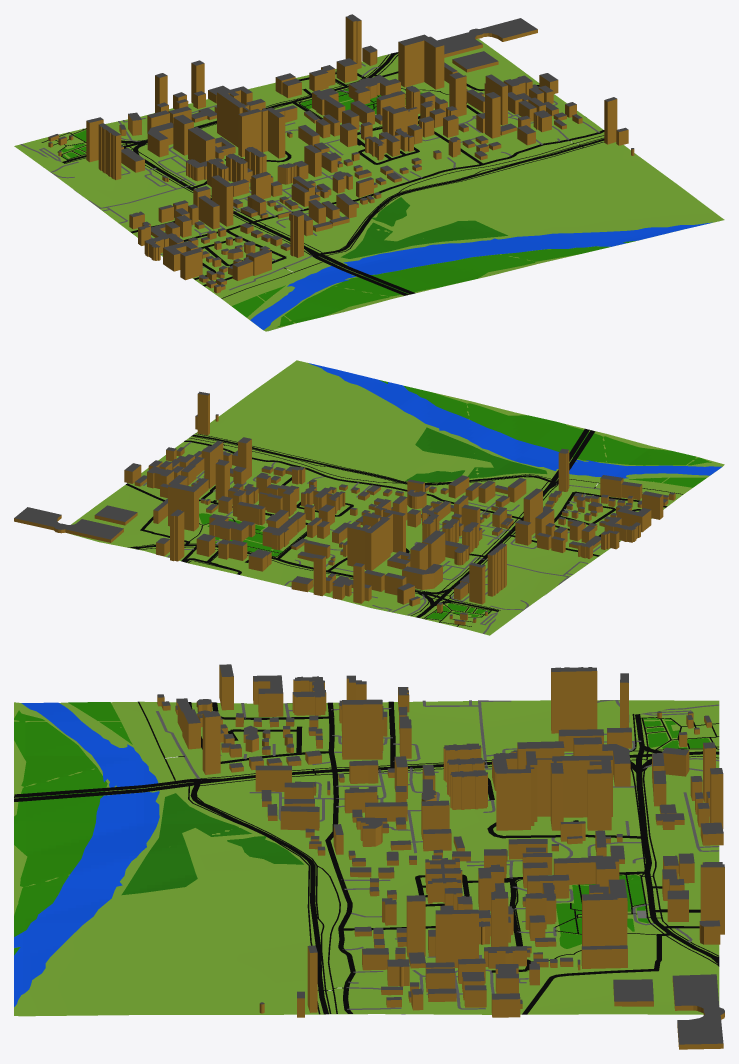
Rendered from tile_05_01.glb.
3 renders of one model, top to bottom at view 1: azimuth 30°, elevation 25°; view 2: azimuth 150°, elevation 25°; view 3: azimuth 270°, elevation 25°, orthographic. The views are drawn at different scales.
Visible parts, largest first — view 1: Ub_small.osm_buildings_05_01, Terrain_05_01, Ub_small.osm_vegetation_05_01, Ub_small.osm_water_05_01, Ub_small.osm_forest_05_01, Ub_small.osm_paths_footway_05_01, Ub_small.osm_roads_service_05_01, Ub_small.osm_roads_residential_05_01, Ub_small.osm_roads_primary_05_01, Ub_small.osm_roads_tertiary_05_01; view 2: Ub_small.osm_buildings_05_01, Terrain_05_01, Ub_small.osm_vegetation_05_01, Ub_small.osm_water_05_01, Ub_small.osm_forest_05_01, Ub_small.osm_paths_footway_05_01, Ub_small.osm_roads_residential_05_01, Ub_small.osm_roads_service_05_01, Ub_small.osm_roads_primary_05_01, Ub_small.osm_roads_tertiary_05_01; view 3: Terrain_05_01, Ub_small.osm_buildings_05_01, Ub_small.osm_vegetation_05_01, Ub_small.osm_water_05_01, Ub_small.osm_forest_05_01, Ub_small.osm_roads_residential_05_01, Ub_small.osm_roads_service_05_01, Ub_small.osm_paths_footway_05_01, Ub_small.osm_roads_primary_05_01, Ub_small.osm_roads_tertiary_05_01, Ub_small.osm_roads_secondary_05_01.
Boxes of the visible parts, <box> form: Ub_small.osm_buildings_05_01: <box>48,14,634,293</box>; Terrain_05_01: <box>14,38,724,331</box>; Ub_small.osm_vegetation_05_01: <box>61,89,635,331</box>; Ub_small.osm_water_05_01: <box>250,222,712,329</box>; Ub_small.osm_forest_05_01: <box>341,197,507,258</box>; Ub_small.osm_paths_footway_05_01: <box>41,54,603,298</box>; Ub_small.osm_roads_service_05_01: <box>20,63,599,290</box>; Ub_small.osm_roads_residential_05_01: <box>130,71,604,286</box>; Ub_small.osm_roads_primary_05_01: <box>121,141,414,295</box>; Ub_small.osm_roads_tertiary_05_01: <box>318,72,604,254</box>; Ub_small.osm_buildings_05_01: <box>14,391,675,625</box>; Terrain_05_01: <box>69,360,724,635</box>; Ub_small.osm_vegetation_05_01: <box>199,380,711,619</box>; Ub_small.osm_water_05_01: <box>309,363,721,478</box>; Ub_small.osm_forest_05_01: <box>405,427,547,482</box>; Ub_small.osm_paths_footway_05_01: <box>127,428,682,626</box>; Ub_small.osm_roads_residential_05_01: <box>126,440,667,574</box>; Ub_small.osm_roads_service_05_01: <box>143,442,643,633</box>; Ub_small.osm_roads_primary_05_01: <box>416,429,594,617</box>; Ub_small.osm_roads_tertiary_05_01: <box>184,434,553,562</box>; Terrain_05_01: <box>14,700,719,1016</box>; Ub_small.osm_buildings_05_01: <box>157,664,724,1049</box>; Ub_small.osm_vegetation_05_01: <box>14,702,709,955</box>; Ub_small.osm_water_05_01: <box>14,702,159,1006</box>; Ub_small.osm_forest_05_01: <box>121,793,303,895</box>; Ub_small.osm_roads_residential_05_01: <box>188,701,699,1014</box>; Ub_small.osm_roads_service_05_01: <box>156,700,719,1009</box>; Ub_small.osm_paths_footway_05_01: <box>14,701,719,1014</box>; Ub_small.osm_roads_primary_05_01: <box>14,746,719,801</box>; Ub_small.osm_roads_tertiary_05_01: <box>190,783,700,1014</box>; Ub_small.osm_roads_secondary_05_01: <box>636,755,719,964</box>.
Bounding box in the file's own units: 1111 × 102 × 938.
